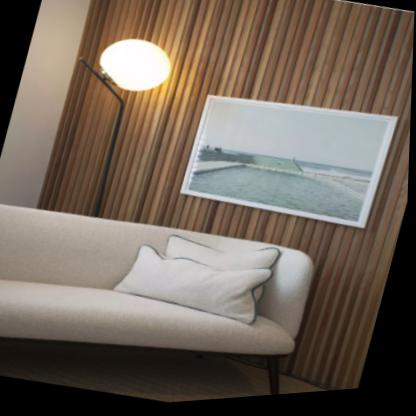Sofa: (0, 177, 327, 416)
Wall Panel: (31, 0, 416, 296)
